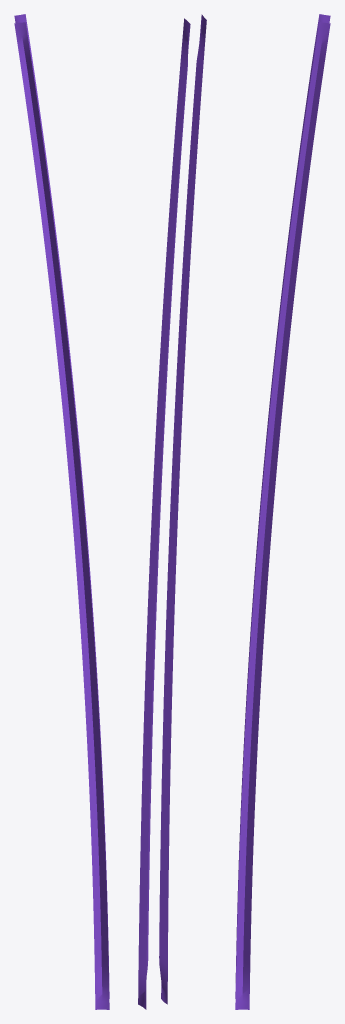
File: Vein.obj
The picture shows the model from 3 angles, left to right: view 1: azimuth 90°, elevation 25°; view 2: azimuth 210°, elevation 25°; view 3: azimuth 270°, elevation 25°; orthographic projection. The views are drawn at different scales.
Visible parts, largest first — view 1: Vein; view 2: Vein; view 3: Vein.
Part boxes in pixels (bbox=[...]): Vein: bbox=[14, 14, 109, 1009]; Vein: bbox=[138, 14, 206, 1009]; Vein: bbox=[235, 14, 330, 1009].
Bounding box in the file's own units: 0.0759 × 3.2 × 0.2802.
